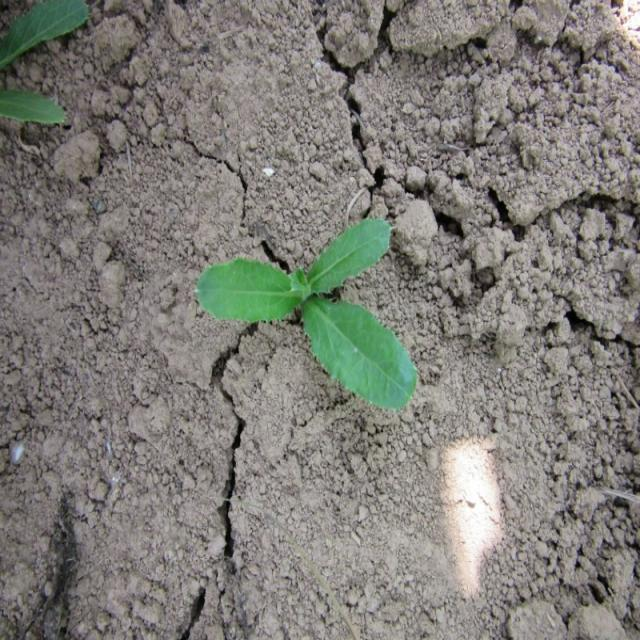field_thistle: (187, 199, 431, 418)
